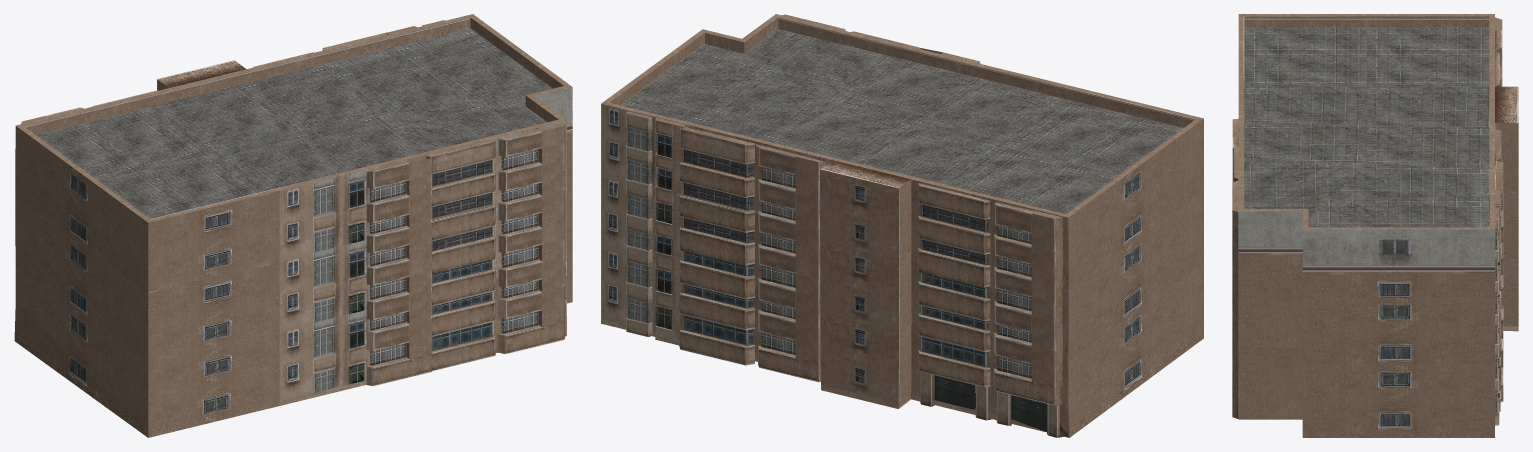
The model's file is buildings_01_01.FBX.
The picture shows the model from 3 angles, left to right: view 1: azimuth 30°, elevation 25°; view 2: azimuth 150°, elevation 25°; view 3: azimuth 270°, elevation 25°; orthographic projection. The views are drawn at different scales.
Parts seen in each view (by area): view 1: Object125; view 2: Object125; view 3: Object125.
Boxes of the visible parts, left/top/right/bottom form: Object125: left=14, top=14, right=572, bottom=437; Object125: left=601, top=14, right=1203, bottom=437; Object125: left=1232, top=14, right=1518, bottom=437.
Bounding box in the file's own units: 4331 × 2425 × 1964.
Materials: 1 (1 with a texture image).
